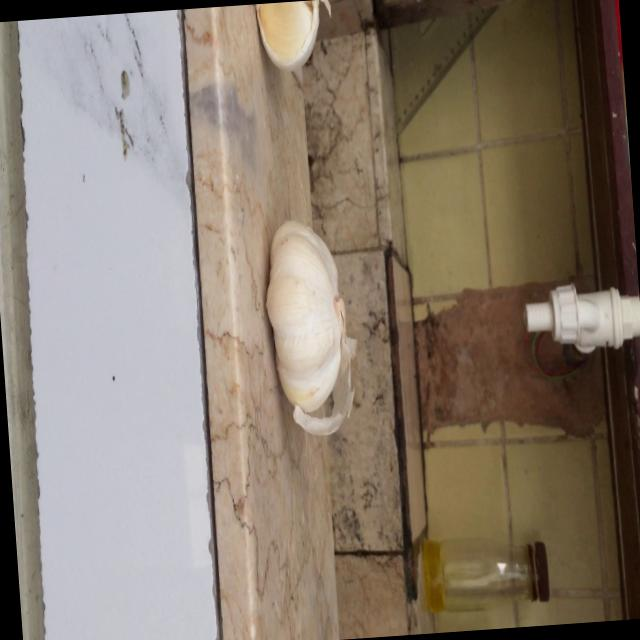garlic: (258, 212, 361, 440)
